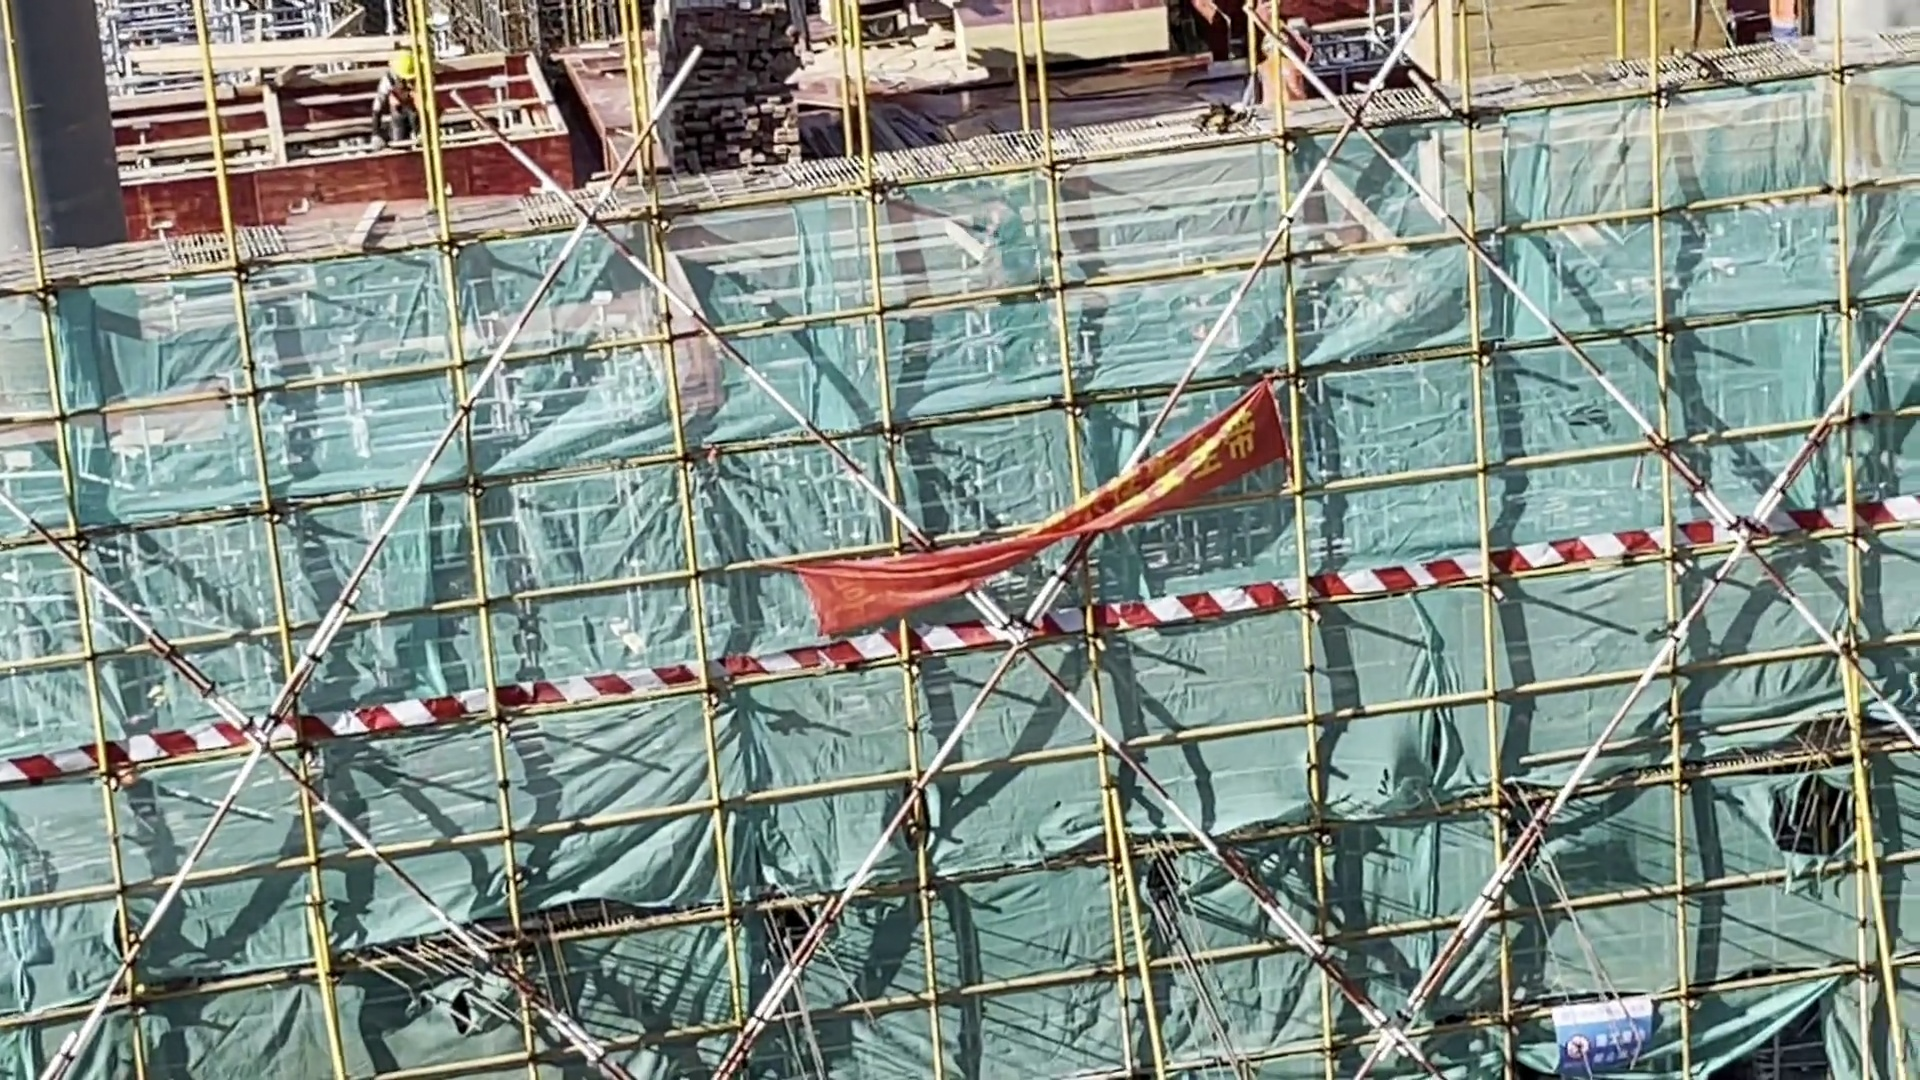helmet: (386, 41, 422, 87), (1260, 30, 1293, 61)
person: (358, 48, 443, 134), (1243, 32, 1330, 102)
slogan: (791, 393, 1289, 638), (1544, 968, 1668, 1080)
vest: (1256, 57, 1309, 105)
wood: (627, 1, 822, 176)
